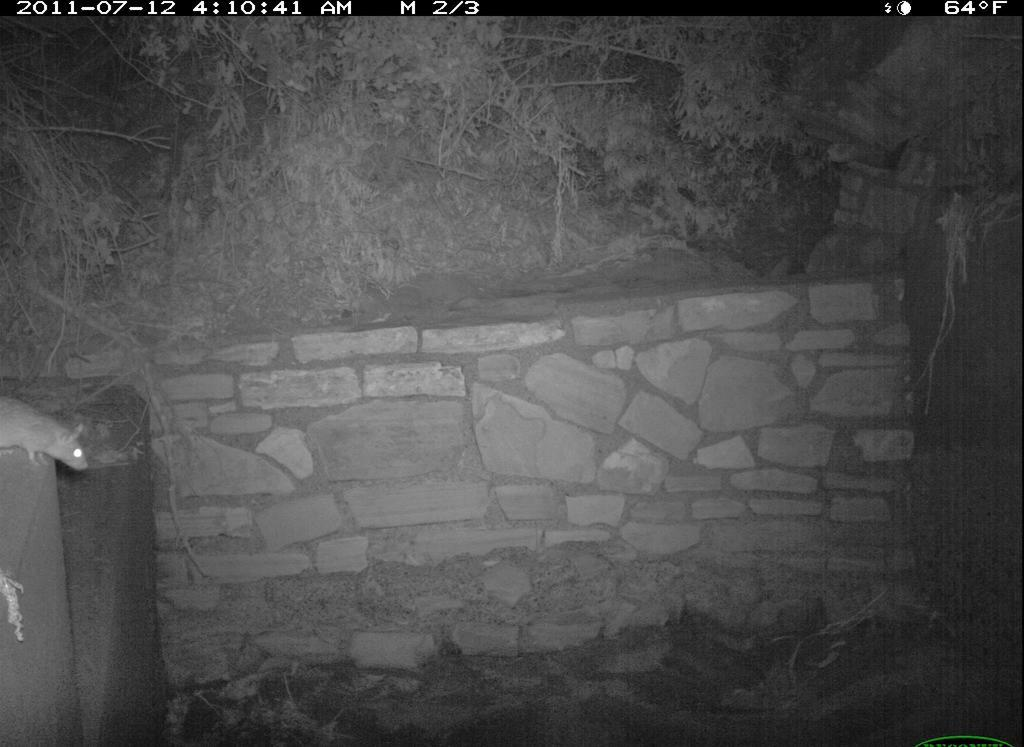rodent: (3, 392, 98, 491)
